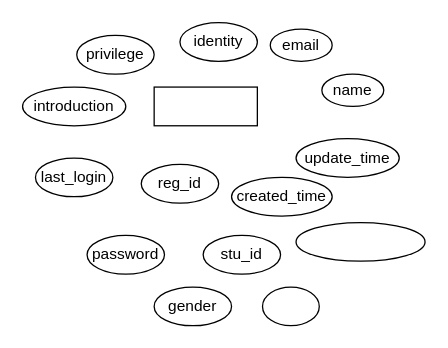
Some shapes in this 448 by 348 pixel diagram are drawn without their labels. The centre of each missing label's shape, as x and y in pixels:
"alcpt_user" belongs at [205,106].
"email_is_verified" belongs at [360,241].
"photo" belongs at [290,306].
